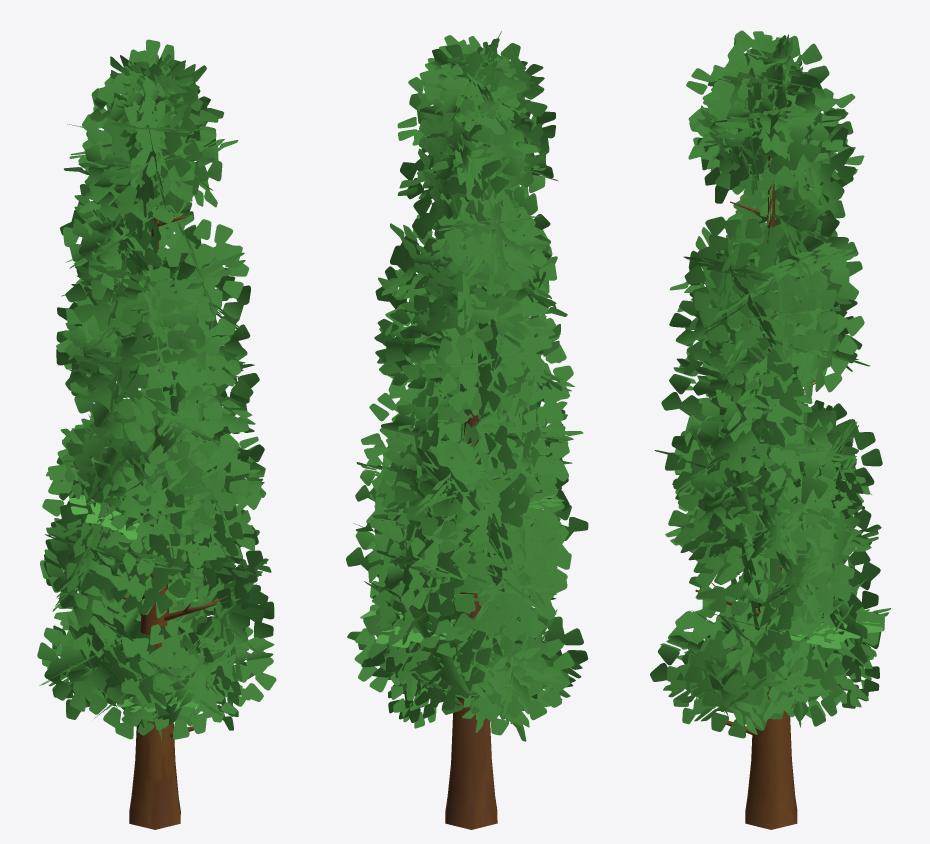
The model's file is st-columnar-1.glb.
3 views of the same model, side by side, from view 1: azimuth 30°, elevation 25°; view 2: azimuth 150°, elevation 25°; view 3: azimuth 270°, elevation 25° (orthographic).
Parts seen in each view (by area): view 1: STColumnar1; view 2: STColumnar1; view 3: STColumnar1.
Boxes of the visible parts, box(x1,y1,x2,y2) form: STColumnar1: box(37, 39, 276, 829); STColumnar1: box(346, 31, 588, 829); STColumnar1: box(650, 30, 890, 829).
Size of the model in its own units: 3.95 by 12.44 by 3.91.
Materials: 2 (2 with a texture image).
